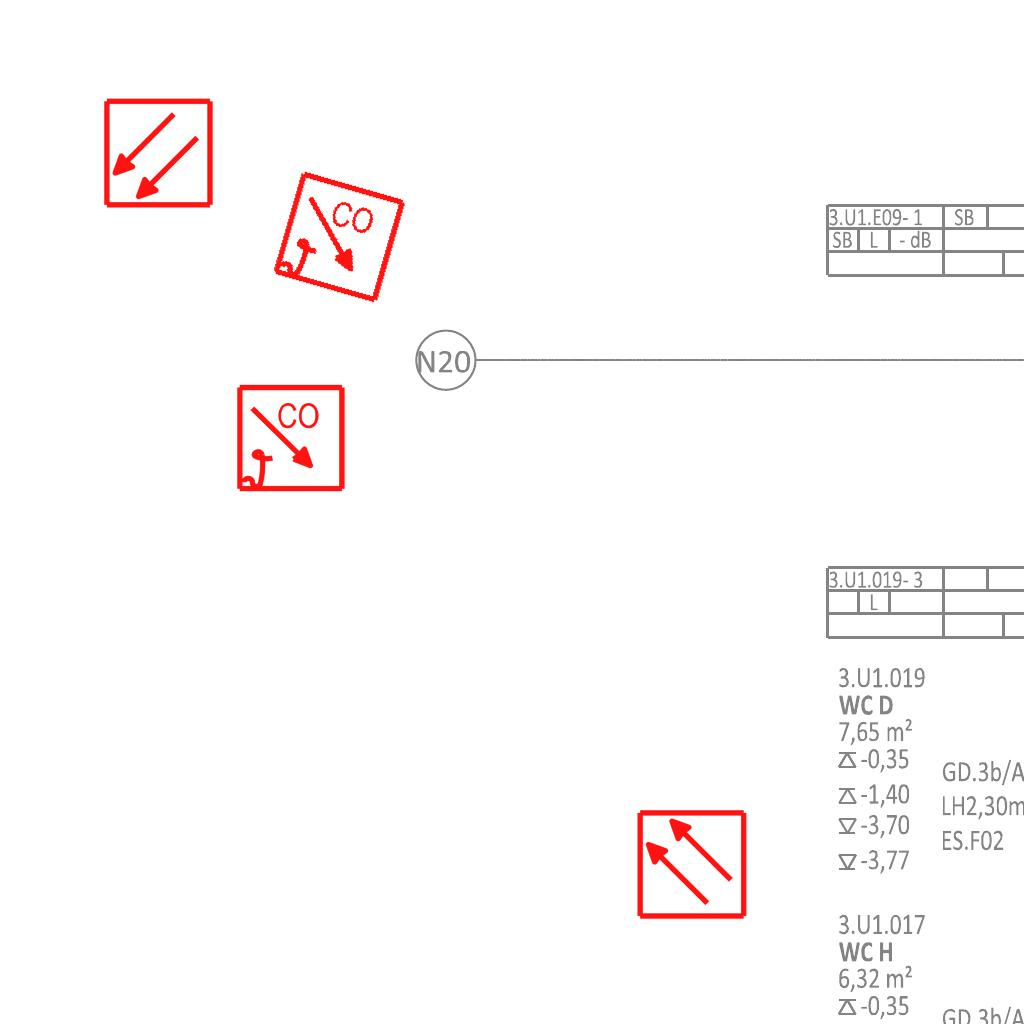RMO_Rauchmelder_optischer: (635, 808, 748, 921), (102, 97, 215, 210)
ROA_Rauchmelder_optisch_mit_Signalgeber_(Sockelsirene): (269, 168, 410, 309), (235, 383, 348, 496)
